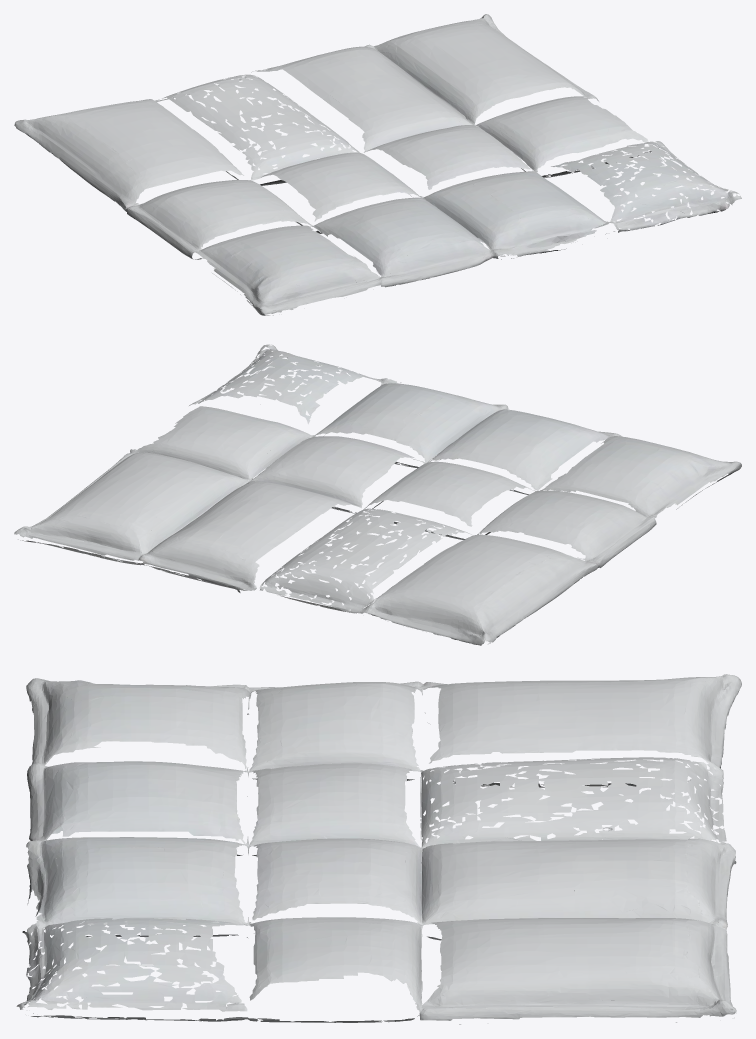
3 renders of one model, top to bottom at view 1: azimuth 30°, elevation 25°; view 2: azimuth 150°, elevation 25°; view 3: azimuth 270°, elevation 25°, orthographic. The views are drawn at different scales.
Visible parts, largest first — view 1: geometry_0; view 2: geometry_0; view 3: geometry_0.
Part boxes in pixels (<box>): geometry_0: <box>14,14,741,315</box>; geometry_0: <box>14,344,741,645</box>; geometry_0: <box>16,674,741,1024</box>.
Bounding box in the file's own units: 0.9989 × 0.0844 × 0.9349.
Materials: 1 (1 with a texture image).
